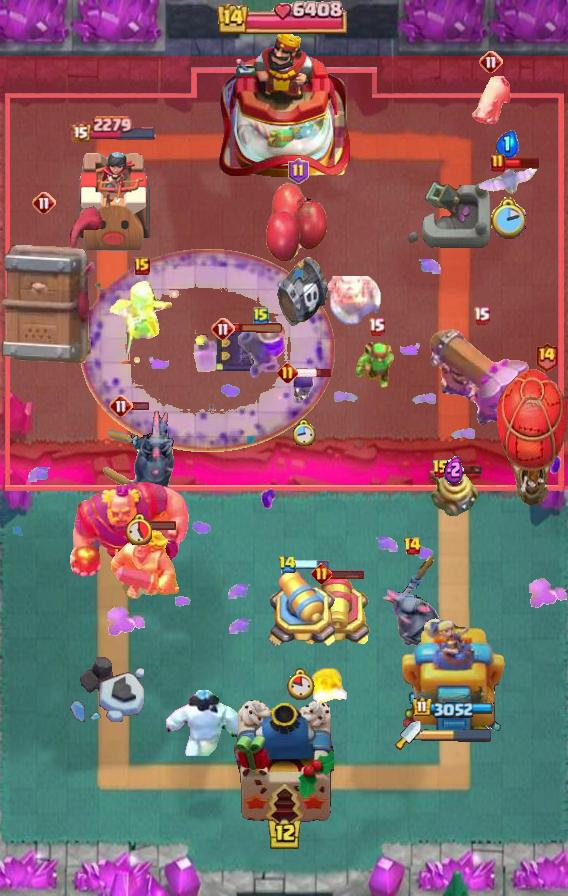bar: (402, 615, 507, 731)
barbarian: (476, 167, 538, 197)
bomb-tower: (239, 318, 286, 378)
cannon-cart: (496, 369, 568, 509)
clock: (217, 0, 351, 34)
dart-goblin: (0, 206, 104, 365)
electro-spirit: (495, 130, 519, 158), (444, 454, 464, 484)
elixir: (489, 197, 526, 239), (287, 668, 315, 700), (125, 513, 152, 545), (292, 419, 316, 446)
emote: (233, 322, 285, 333), (503, 156, 540, 169), (296, 367, 333, 379), (448, 463, 484, 475), (294, 559, 330, 571), (329, 568, 365, 580), (139, 521, 177, 532), (130, 401, 150, 411)
furnace: (427, 326, 535, 426)
giant: (469, 72, 513, 128)
giant-snowball: (355, 340, 397, 390)
goblin: (291, 370, 317, 406)
goblin-drill: (430, 468, 478, 516)
goblin-hut: (109, 526, 183, 604)
golemite: (377, 552, 447, 662), (102, 408, 174, 502)
ice-spirit-evolution-symbol: (213, 325, 267, 375)
king-tower: (218, 27, 350, 181), (234, 700, 334, 826)
king-tower-bar: (421, 728, 493, 742)
knight-evolution: (193, 334, 222, 373)
lightning: (67, 480, 189, 580)
poison: (106, 280, 178, 356)
queen-tower: (71, 144, 157, 255)
rage: (164, 690, 244, 756)
rocket: (80, 248, 336, 452)
royal-giant: (327, 276, 383, 326)
royal-recruit: (262, 564, 340, 654), (301, 576, 373, 650)
royal-recruit-evolution: (264, 181, 332, 331)
selected: (70, 114, 158, 141), (414, 698, 495, 719)
text: (534, 340, 559, 371), (479, 50, 503, 74), (32, 191, 56, 215), (211, 317, 235, 341), (109, 394, 133, 418), (288, 158, 309, 184), (311, 563, 332, 585), (277, 362, 298, 383), (402, 536, 422, 556), (278, 554, 297, 573), (432, 459, 450, 479), (367, 316, 385, 335), (474, 307, 491, 326), (490, 153, 506, 173), (253, 306, 269, 326), (134, 257, 150, 275)
valkyrie: (303, 664, 355, 708)
